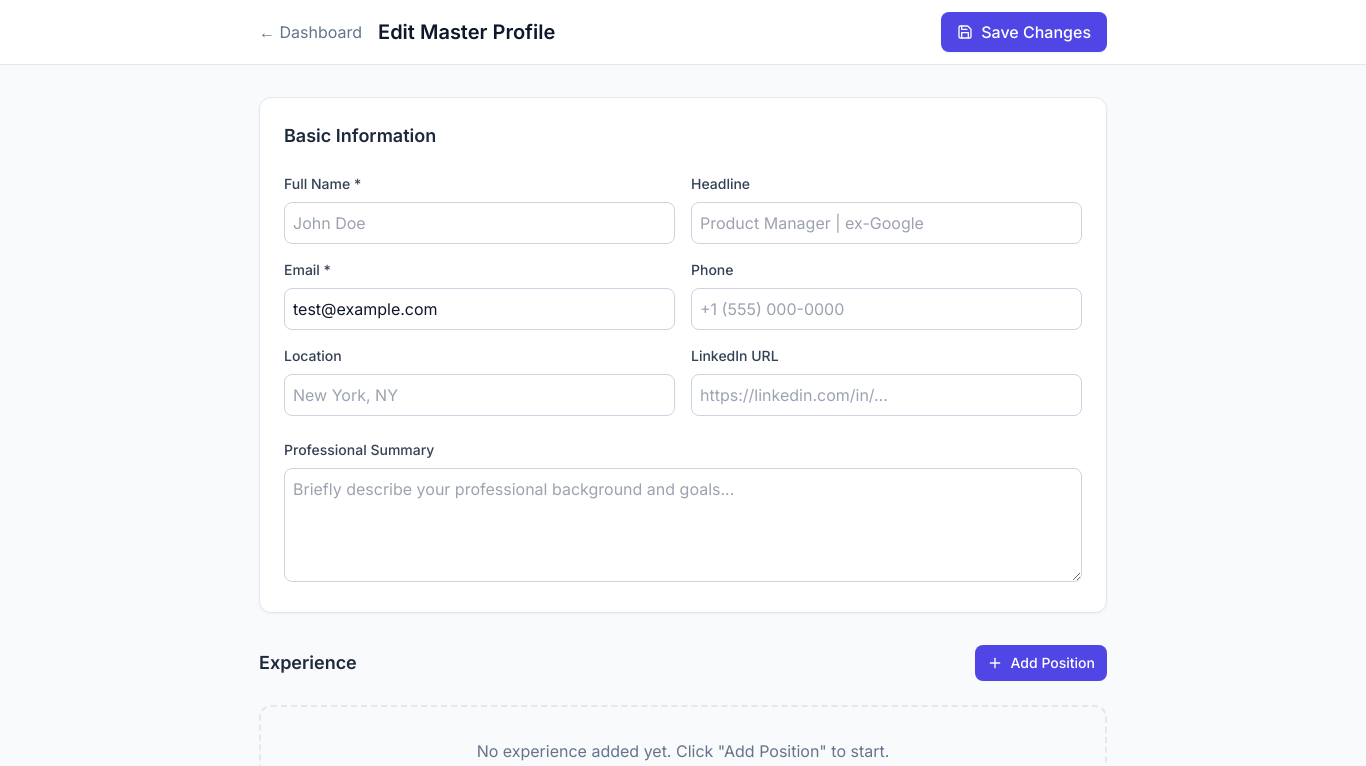
MasterProfilePage › validates required fields on save
Click the button "Save Changes" at (1024, 32), box [941, 12, 1107, 52]
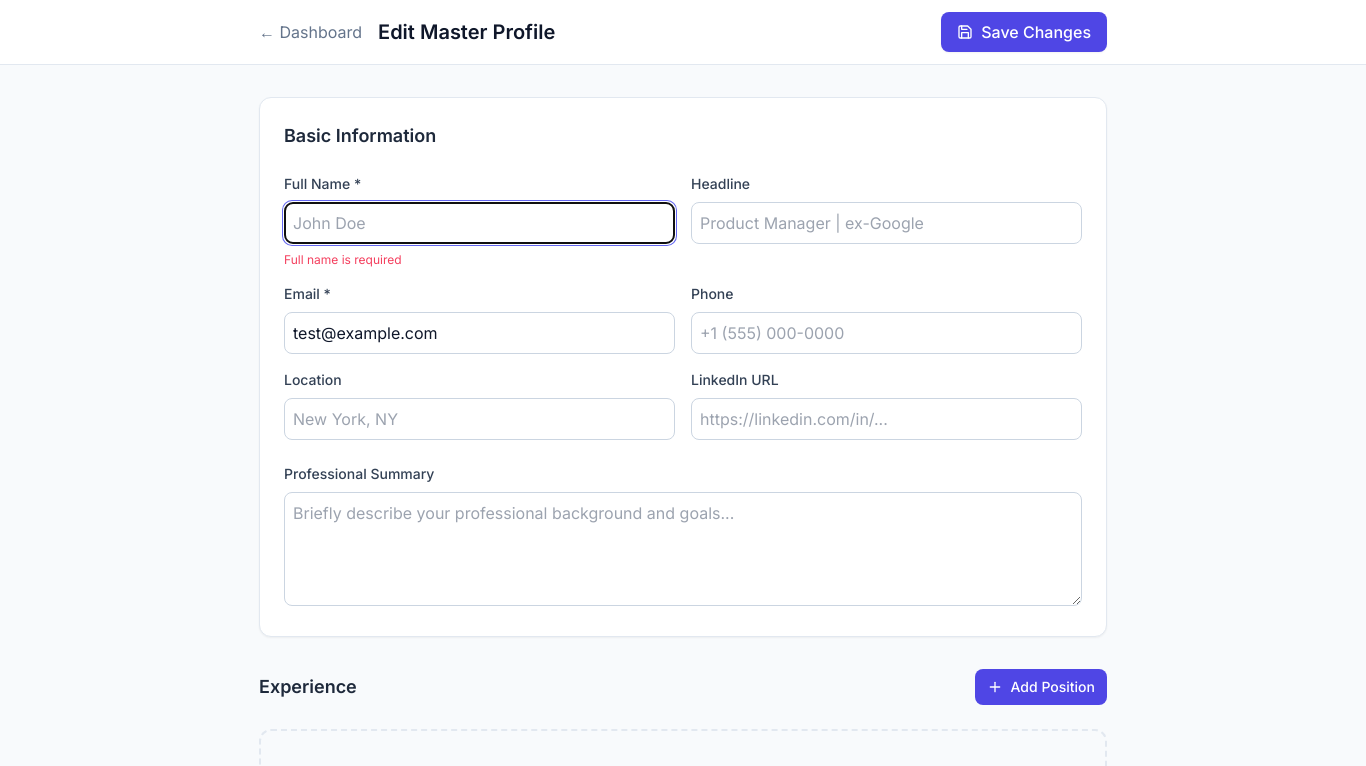
Result: the text "Full name is required" is shown at [284, 252, 402, 267]
